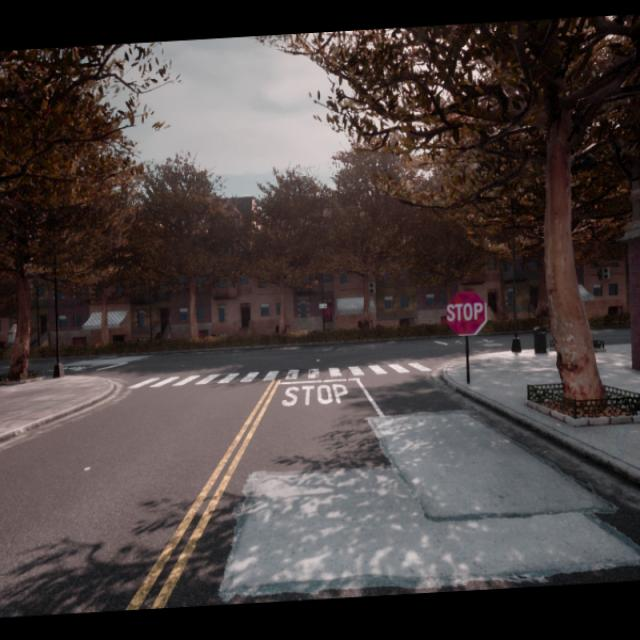stop sign: (442, 287, 488, 337), (446, 300, 484, 322)
